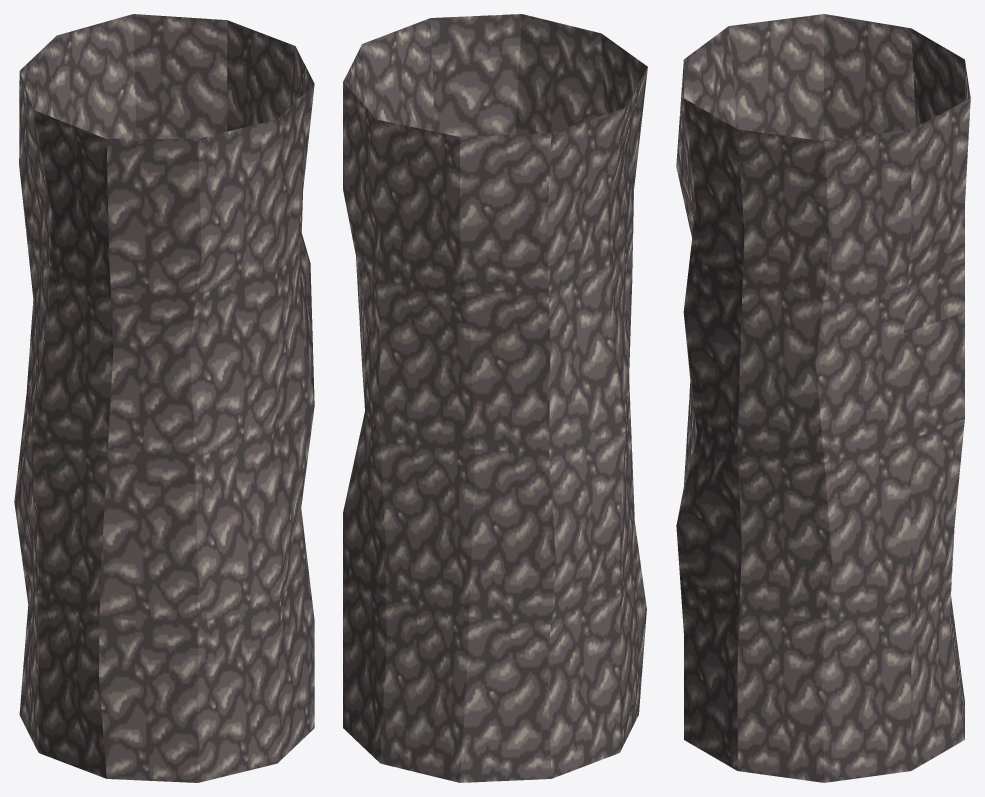
The model's file is Cave_Tunnel.fbx.
The picture shows the model from 3 angles, left to right: view 1: azimuth 30°, elevation 25°; view 2: azimuth 150°, elevation 25°; view 3: azimuth 270°, elevation 25°; orthographic projection.
Parts seen in each view (by area): view 1: pCylinder1; view 2: pCylinder1; view 3: pCylinder1.
Boxes of the visible parts, left/top/right/bottom form: pCylinder1: left=14, top=14, right=314, bottom=782; pCylinder1: left=343, top=14, right=647, bottom=782; pCylinder1: left=676, top=14, right=970, bottom=782.
Size of the model in its own units: 15.91 by 35.86 by 14.91.
1 material, 1 textured.
